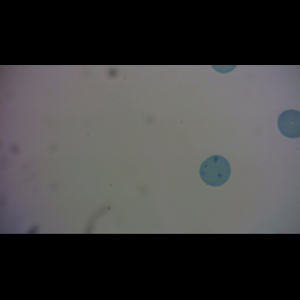aggregate reticulocyte: (199, 154, 231, 188)
